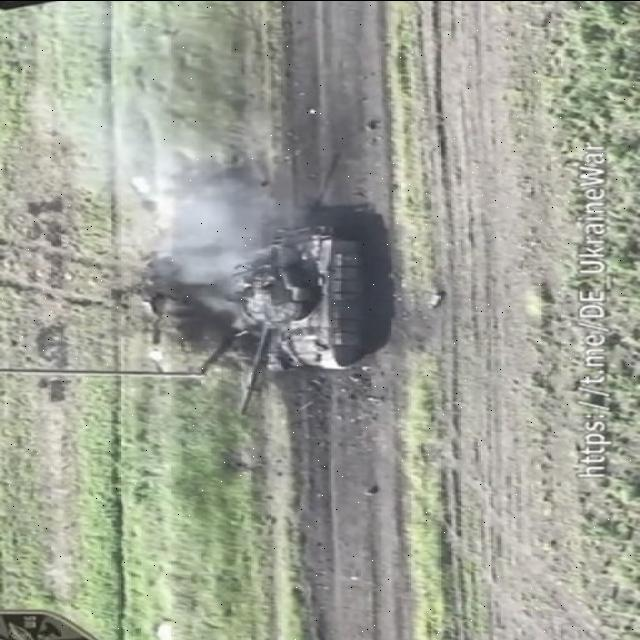TANK: (218, 224, 380, 422)
